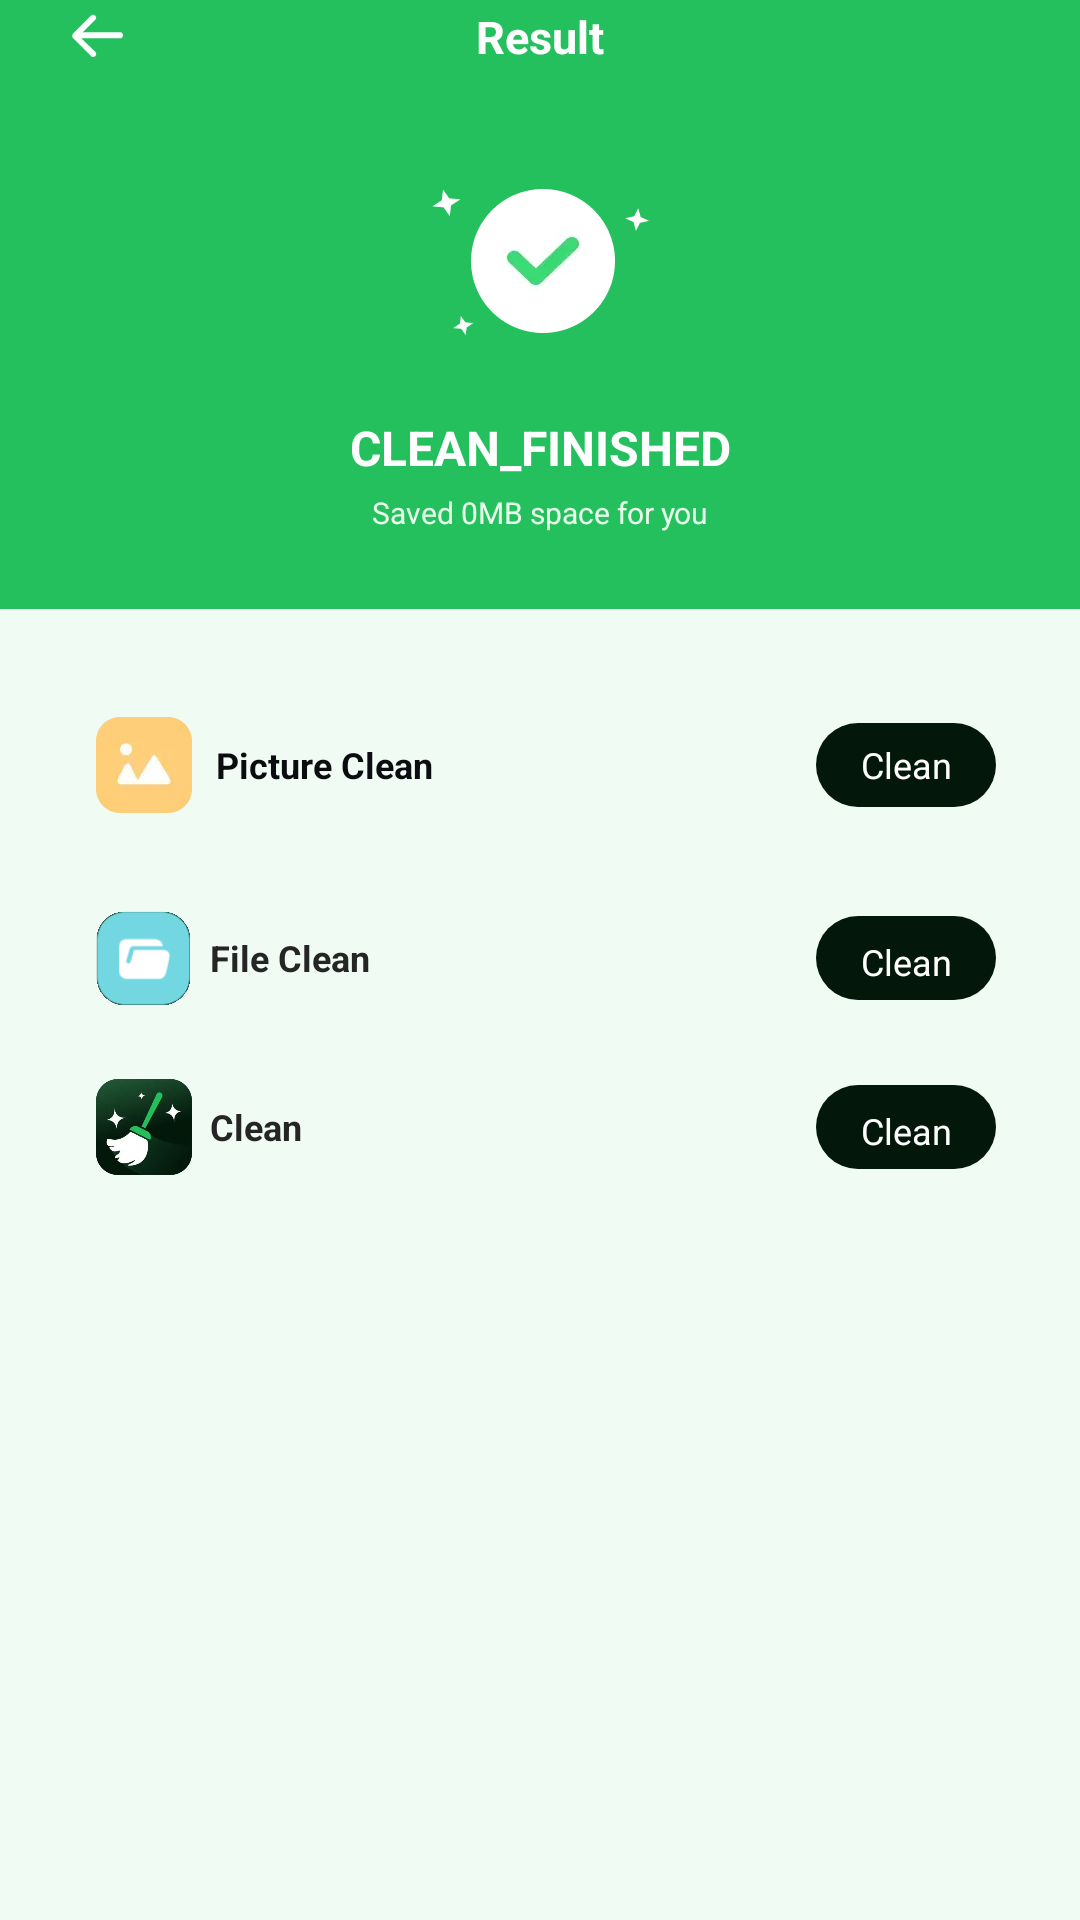

Screen size 1080×1920. Icon name, then its center in pixels as [x,y]:
back: [97,35]
